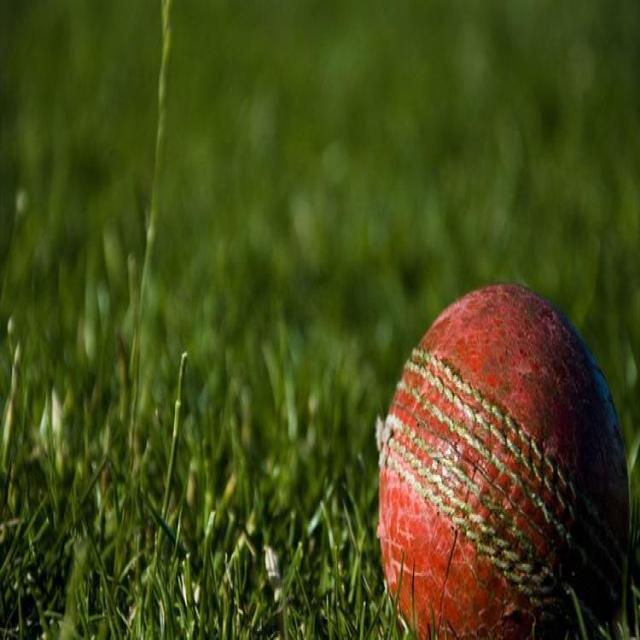ball: (380, 284, 630, 640)
